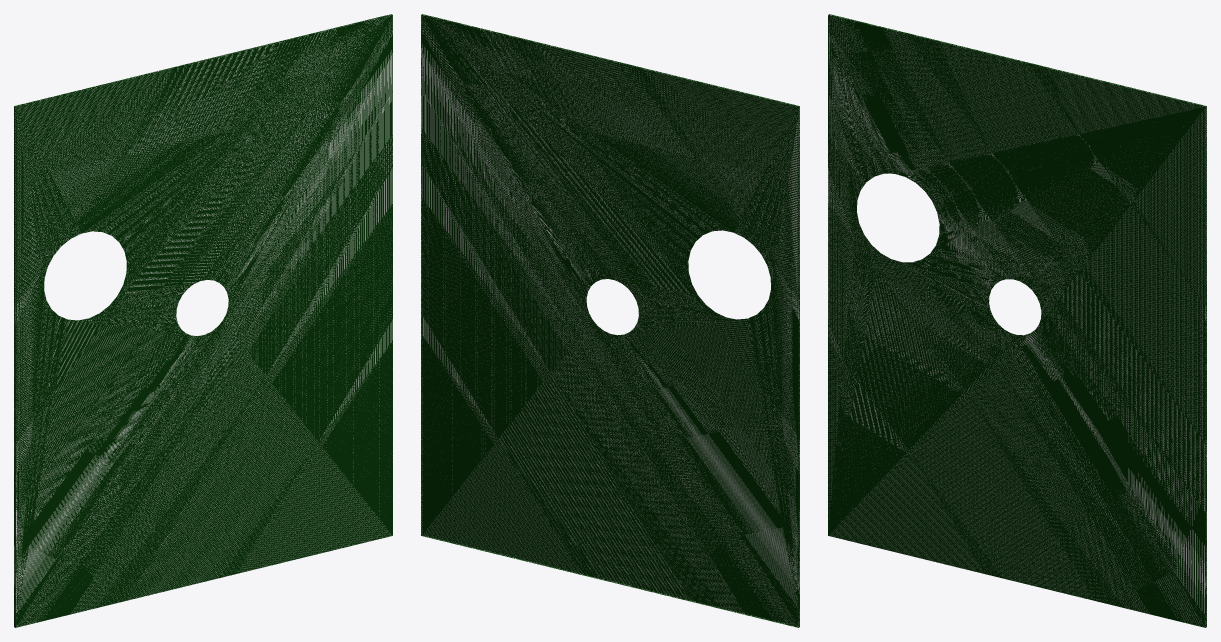
File: original-18.obj
3 views of the same model, side by side, from view 1: azimuth 30°, elevation 25°; view 2: azimuth 150°, elevation 25°; view 3: azimuth 330°, elevation 25° (orthographic).
Parts seen in each view (by area): view 1: mesh33/mesh33-geometry/material_0/component_0#mesh33-geometry; view 2: mesh33/mesh33-geometry/material_0/component_0#mesh33-geometry; view 3: mesh33/mesh33-geometry/material_0/component_0#mesh33-geometry.
Boxes of the visible parts, x1=… form: mesh33/mesh33-geometry/material_0/component_0#mesh33-geometry: x1=14, y1=14, x2=392, y2=627; mesh33/mesh33-geometry/material_0/component_0#mesh33-geometry: x1=421, y1=14, x2=799, y2=627; mesh33/mesh33-geometry/material_0/component_0#mesh33-geometry: x1=828, y1=14, x2=1206, y2=627.
Bounding box in the file's own units: 0.8355 × 1.1 × 0.00483.
